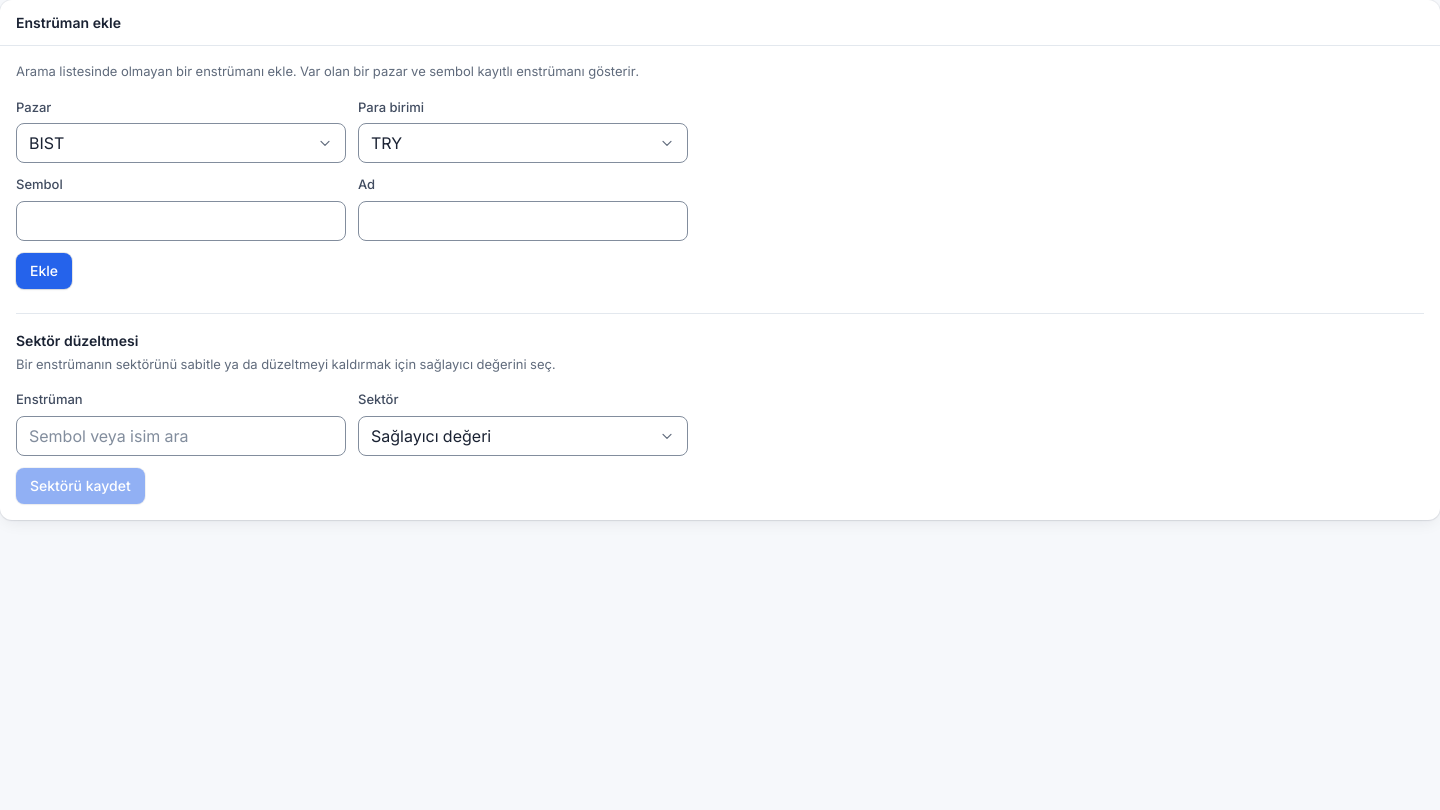
Test: InstrumentsSection › sector override › saves the chosen sector key
Check: the button "Sektörü kaydet" is disabled, box [16,468,145,504]
Type "THY" into the dropdown labelled "Enstrüman" at (181,436), box [16,416,346,456]
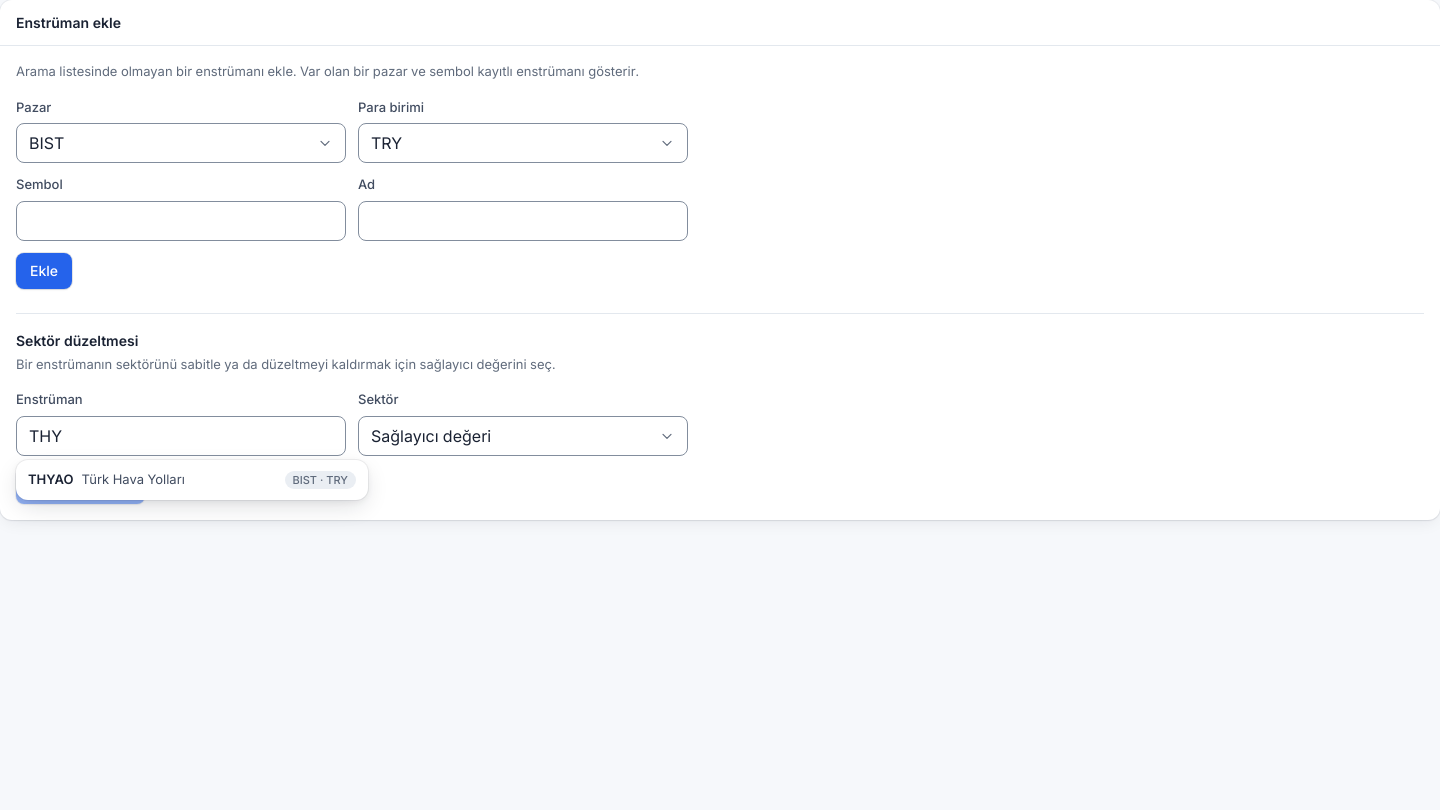
Click the option "THYAO Türk Hava Yolları BIST · TRY" at (51,479), box [28,471,356,489]
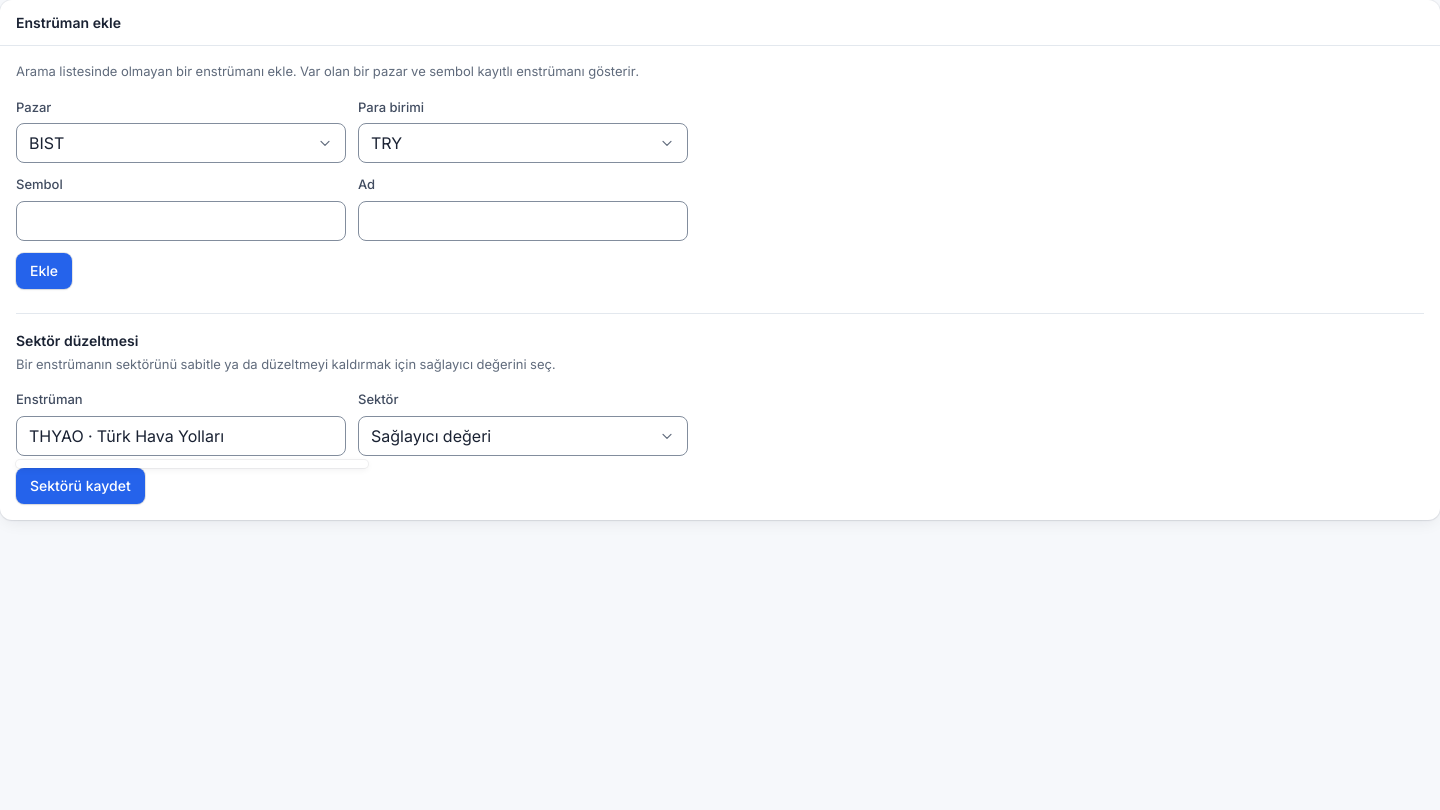
Click the dropdown named "Sektör" at (431,436), box [358,416,688,456]
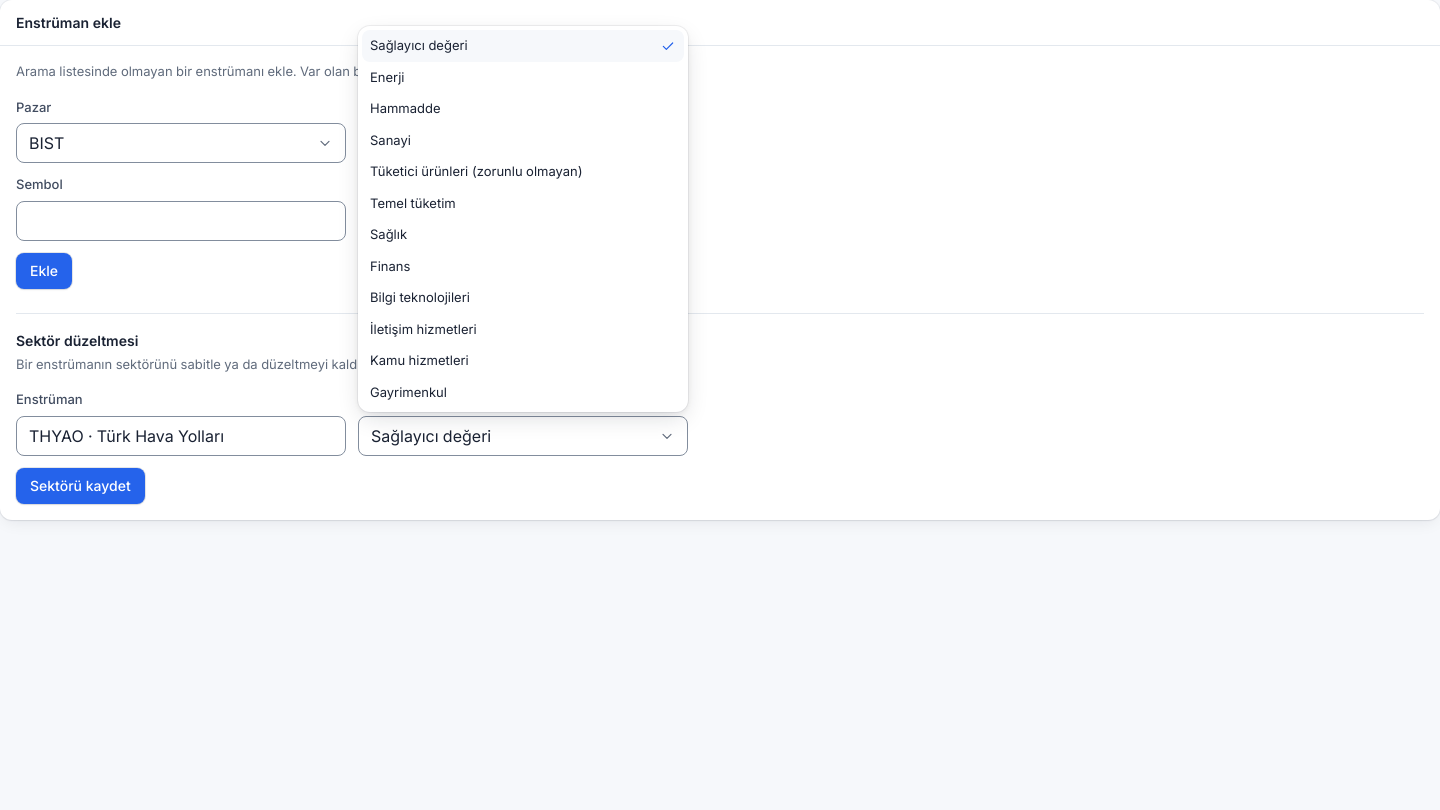
Check: the list is shown, box [362,30,684,408]
Click the option "Enerji" at (387,76), box [370,68,404,84]
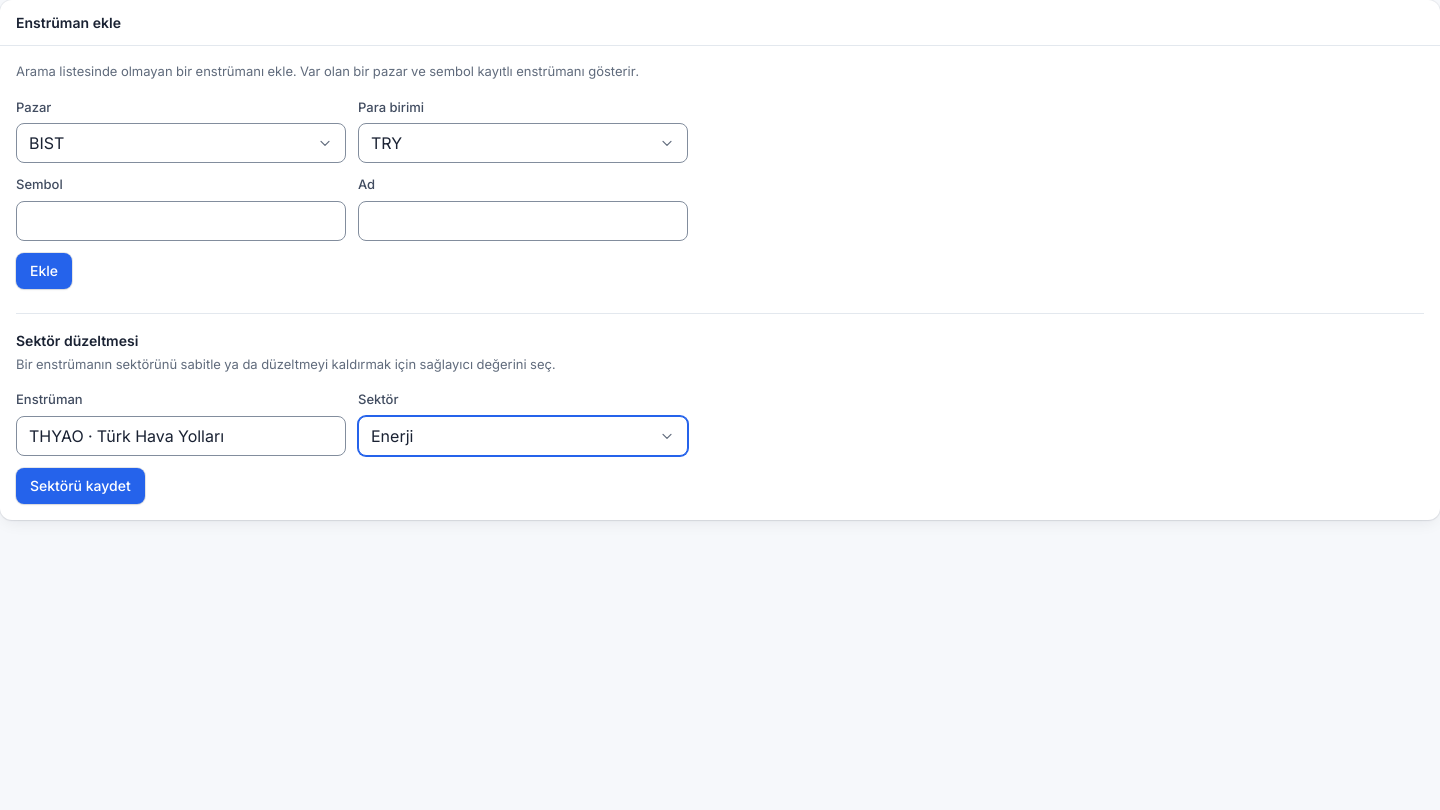
Check: the list is gone
Click the button "Sektörü kaydet" at (80,486), box [16,468,145,504]
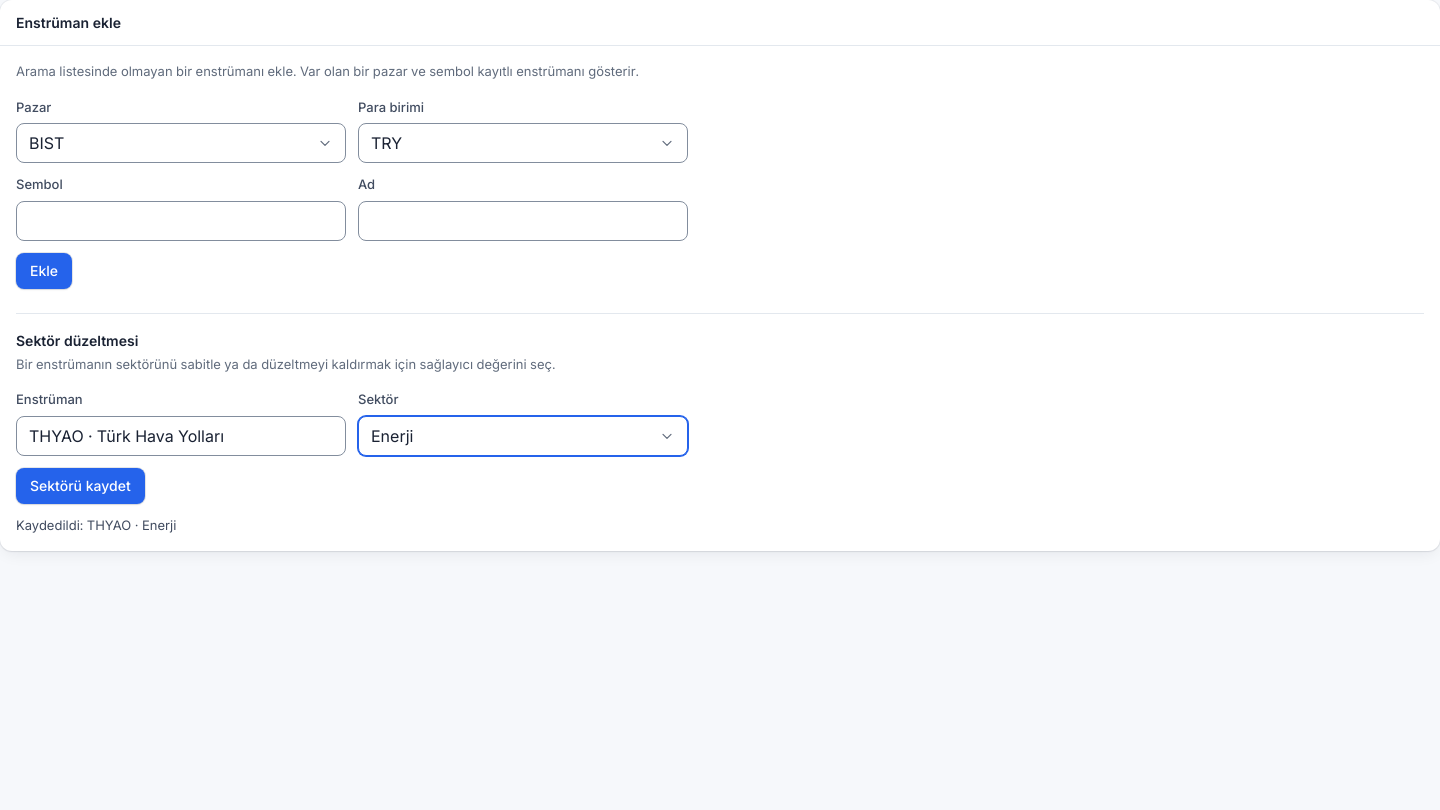
Check: the text "Kaydedildi: THYAO · Enerji" is shown, box [16,516,176,532]
